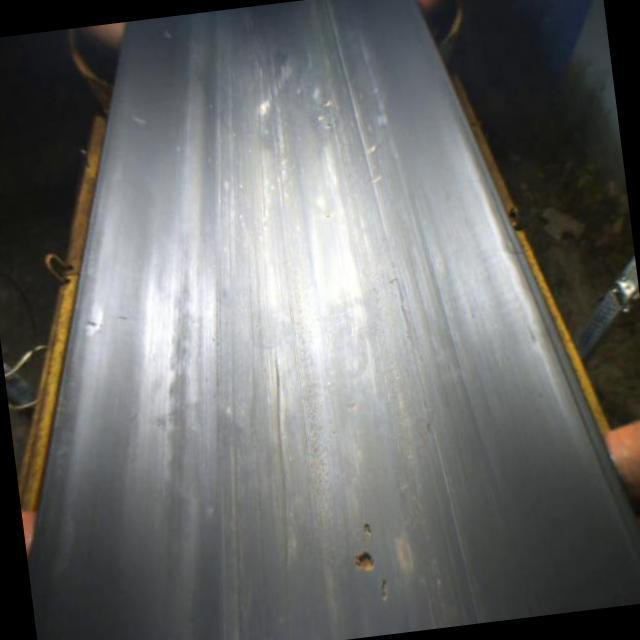Hole: (351, 547, 378, 575)
Puncture: (360, 521, 376, 535)
Tear: (379, 578, 389, 602)
